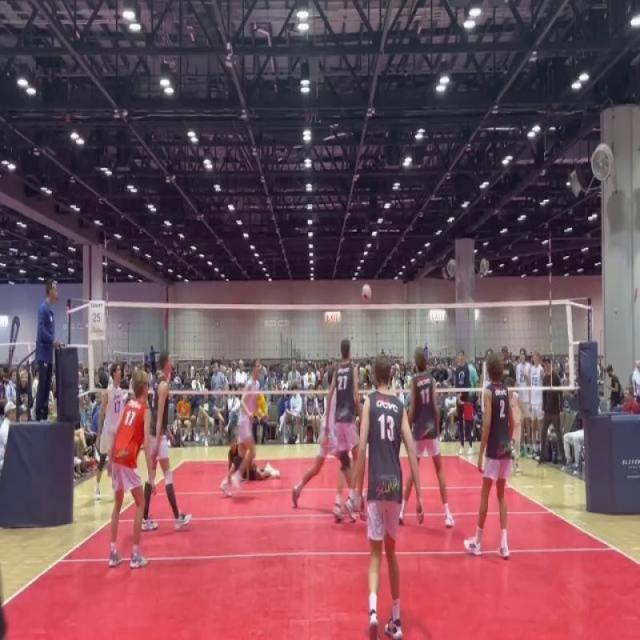volleyball: (360, 282, 372, 302)
